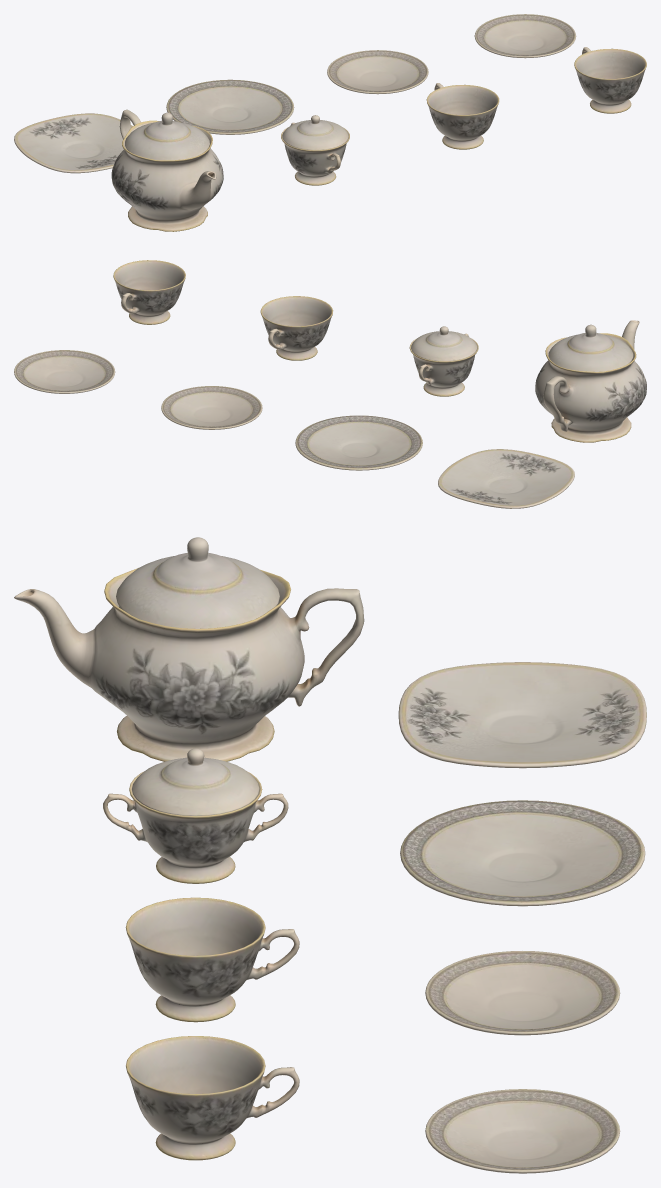
Rendered from tea-set.glb.
3 views of the same model, one above another, from view 1: azimuth 30°, elevation 25°; view 2: azimuth 150°, elevation 25°; view 3: azimuth 270°, elevation 25° (orthographic). The views are drawn at different scales.
Parts seen in each view (by area): view 1: tea_set_01_teapot_01, tea_set_01_plate_large_circular_03, tea_set_01_plate_large_square_01, tea_set_01_cup_small_01, tea_set_01_cup_small_02, tea_set_01_saucer_circular_03, tea_set_01_saucer_circular_04, tea_set_01_teapot_01_lid, tea_set_01_sugar_cup_01, tea_set_01_sugar_cup_01_lid; view 2: tea_set_01_teapot_01, tea_set_01_plate_large_square_01, tea_set_01_plate_large_circular_03, tea_set_01_cup_small_01, tea_set_01_cup_small_02, tea_set_01_saucer_circular_04, tea_set_01_saucer_circular_03, tea_set_01_teapot_01_lid, tea_set_01_sugar_cup_01, tea_set_01_sugar_cup_01_lid; view 3: tea_set_01_teapot_01, tea_set_01_plate_large_square_01, tea_set_01_plate_large_circular_03, tea_set_01_cup_small_01, tea_set_01_cup_small_02, tea_set_01_saucer_circular_03, tea_set_01_saucer_circular_04, tea_set_01_teapot_01_lid, tea_set_01_sugar_cup_01, tea_set_01_sugar_cup_01_lid.
Boxes of the visible parts, left/top/right/bottom form: tea_set_01_teapot_01: left=111, top=109, right=223, bottom=231; tea_set_01_plate_large_circular_03: left=166, top=79, right=294, bottom=134; tea_set_01_plate_large_square_01: left=14, top=113, right=133, bottom=173; tea_set_01_cup_small_01: left=426, top=83, right=499, bottom=149; tea_set_01_cup_small_02: left=574, top=47, right=646, bottom=113; tea_set_01_saucer_circular_03: left=474, top=14, right=576, bottom=58; tea_set_01_saucer_circular_04: left=327, top=50, right=428, bottom=94; tea_set_01_teapot_01_lid: left=125, top=112, right=209, bottom=160; tea_set_01_sugar_cup_01: left=281, top=122, right=349, bottom=185; tea_set_01_sugar_cup_01_lid: left=282, top=115, right=348, bottom=150; tea_set_01_teapot_01: left=535, top=320, right=646, bottom=442; tea_set_01_plate_large_square_01: left=438, top=449, right=574, bottom=508; tea_set_01_plate_large_circular_03: left=295, top=415, right=422, bottom=470; tea_set_01_cup_small_01: left=260, top=296, right=333, bottom=360; tea_set_01_cup_small_02: left=113, top=260, right=185, bottom=324; tea_set_01_saucer_circular_04: left=161, top=386, right=262, bottom=429; tea_set_01_saucer_circular_03: left=14, top=350, right=115, bottom=393; tea_set_01_teapot_01_lid: left=548, top=324, right=633, bottom=371; tea_set_01_sugar_cup_01: left=409, top=333, right=478, bottom=396; tea_set_01_sugar_cup_01_lid: left=411, top=326, right=477, bottom=361; tea_set_01_teapot_01: left=14, top=568, right=364, bottom=761; tea_set_01_plate_large_square_01: left=398, top=662, right=646, bottom=768; tea_set_01_plate_large_circular_03: left=400, top=800, right=645, bottom=906; tea_set_01_cup_small_01: left=125, top=897, right=299, bottom=1022; tea_set_01_cup_small_02: left=126, top=1036, right=299, bottom=1160; tea_set_01_saucer_circular_03: left=425, top=1089, right=620, bottom=1173; tea_set_01_saucer_circular_04: left=425, top=951, right=620, bottom=1035; tea_set_01_teapot_01_lid: left=116, top=537, right=279, bottom=628; tea_set_01_sugar_cup_01: left=103, top=771, right=288, bottom=883; tea_set_01_sugar_cup_01_lid: left=131, top=748, right=259, bottom=815.
Size of the model in its own units: 0.9185 by 0.165 by 0.4839.
Materials: 1 (1 with a texture image).
